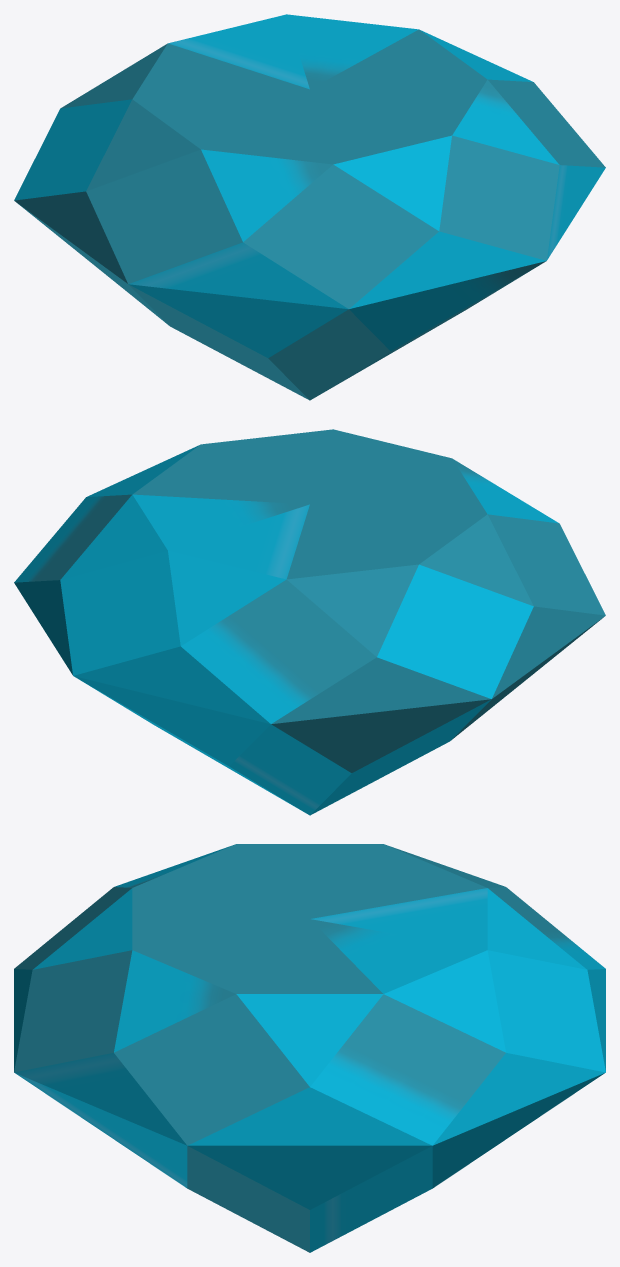
The model's file is Cristal 3 .fbx.
The picture shows the model from 3 angles, top to bottom: view 1: azimuth 30°, elevation 25°; view 2: azimuth 150°, elevation 25°; view 3: azimuth 270°, elevation 25°; orthographic projection. The views are drawn at different scales.
Parts seen in each view (by area): view 1: Gem; view 2: Gem; view 3: Gem.
Boxes of the visible parts, bbox=[...] form: Gem: bbox=[14, 14, 605, 400]; Gem: bbox=[14, 429, 605, 815]; Gem: bbox=[14, 844, 605, 1252].
Size of the model in its own units: 20.98 by 13.05 by 20.98.
